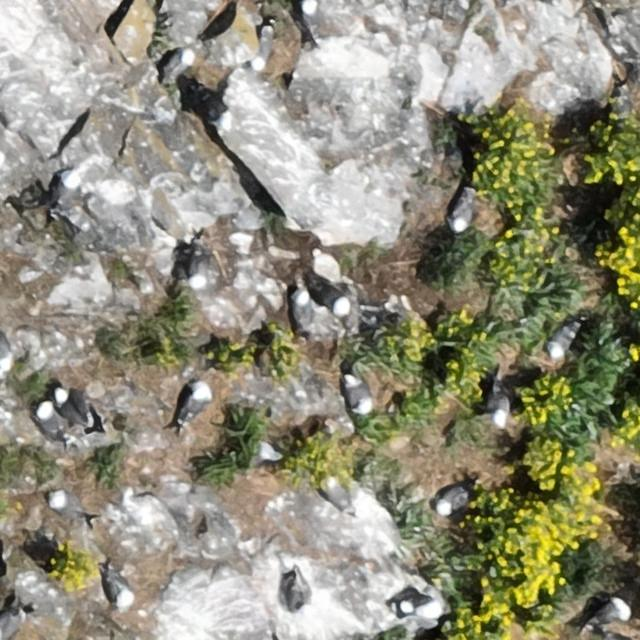umineko: (309, 279, 349, 317), (251, 21, 280, 71), (51, 165, 78, 218), (289, 565, 312, 618), (398, 591, 441, 618), (188, 246, 212, 292), (587, 601, 626, 626), (49, 492, 85, 518), (548, 323, 574, 358), (345, 378, 371, 413), (436, 488, 467, 516), (184, 386, 208, 421), (451, 192, 473, 230), (489, 388, 510, 426), (38, 404, 60, 436), (112, 577, 134, 609), (165, 50, 192, 76), (325, 479, 347, 510), (57, 390, 77, 423), (293, 290, 310, 328), (2, 612, 22, 638), (304, 2, 321, 24)
